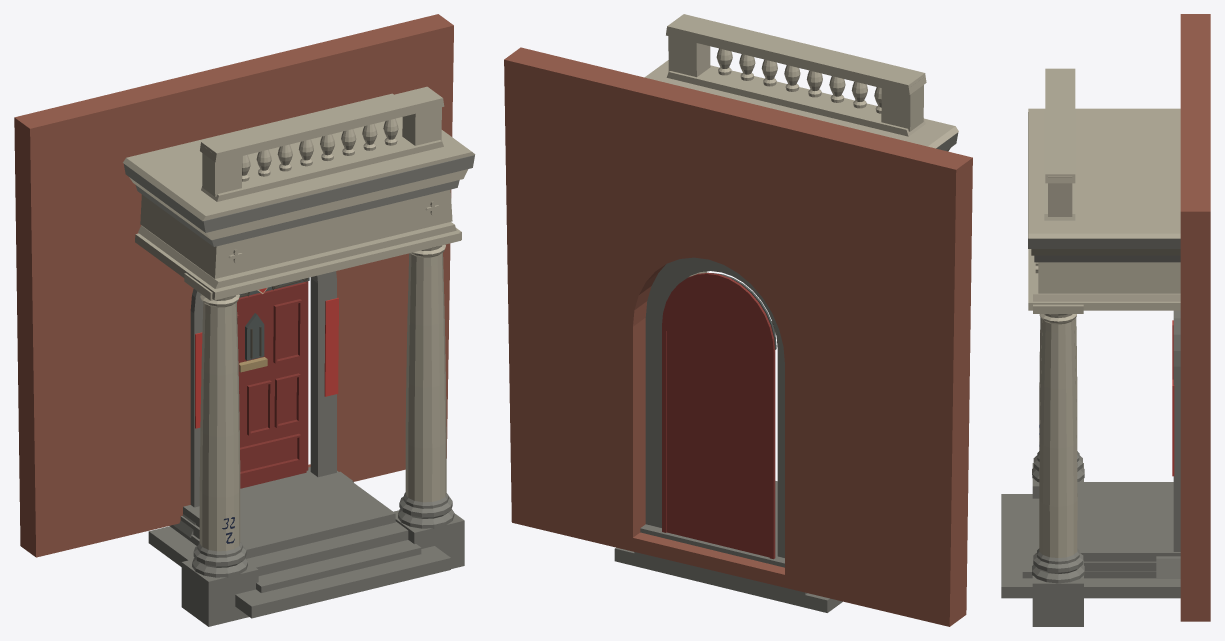
Rendered from lod-source.glb.
3 renders of one model, left to right at view 1: azimuth 30°, elevation 25°; view 2: azimuth 150°, elevation 25°; view 3: azimuth 270°, elevation 25°, orthographic. The views are drawn at different scales.
Parts seen in each view (by area): view 1: 新华路329弄32号乙花园住宅双柱门廊; view 2: 新华路329弄32号乙花园住宅双柱门廊; view 3: 新华路329弄32号乙花园住宅双柱门廊.
Part boxes in pixels (bbox=[...]): 新华路329弄32号乙花园住宅双柱门廊: bbox=[14, 14, 475, 626]; 新华路329弄32号乙花园住宅双柱门廊: bbox=[504, 14, 972, 626]; 新华路329弄32号乙花园住宅双柱门廊: bbox=[1001, 14, 1210, 626].
Size of the model in its own units: 4.99 by 5.25 by 2.24.
